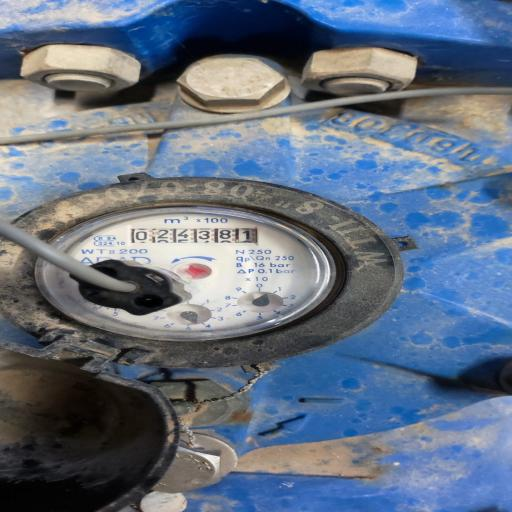0: (132, 230, 151, 242)
1: (238, 230, 256, 240)
2: (156, 229, 171, 240)
3: (196, 230, 213, 240)
4: (174, 229, 192, 239)
8: (216, 229, 234, 240)
medida: (127, 228, 259, 244)
